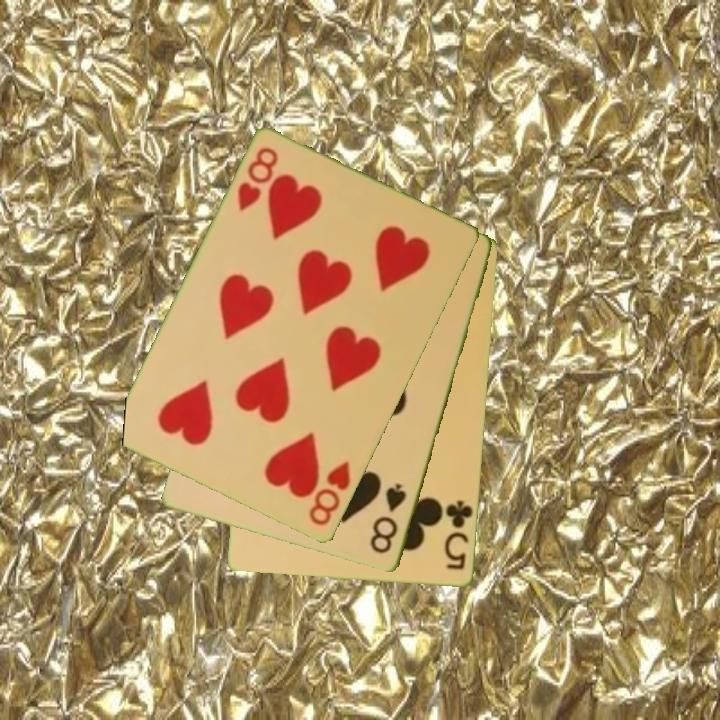5c: (441, 497, 476, 573)
8h: (305, 458, 354, 530), (234, 144, 282, 215)
8s: (367, 480, 410, 557)
